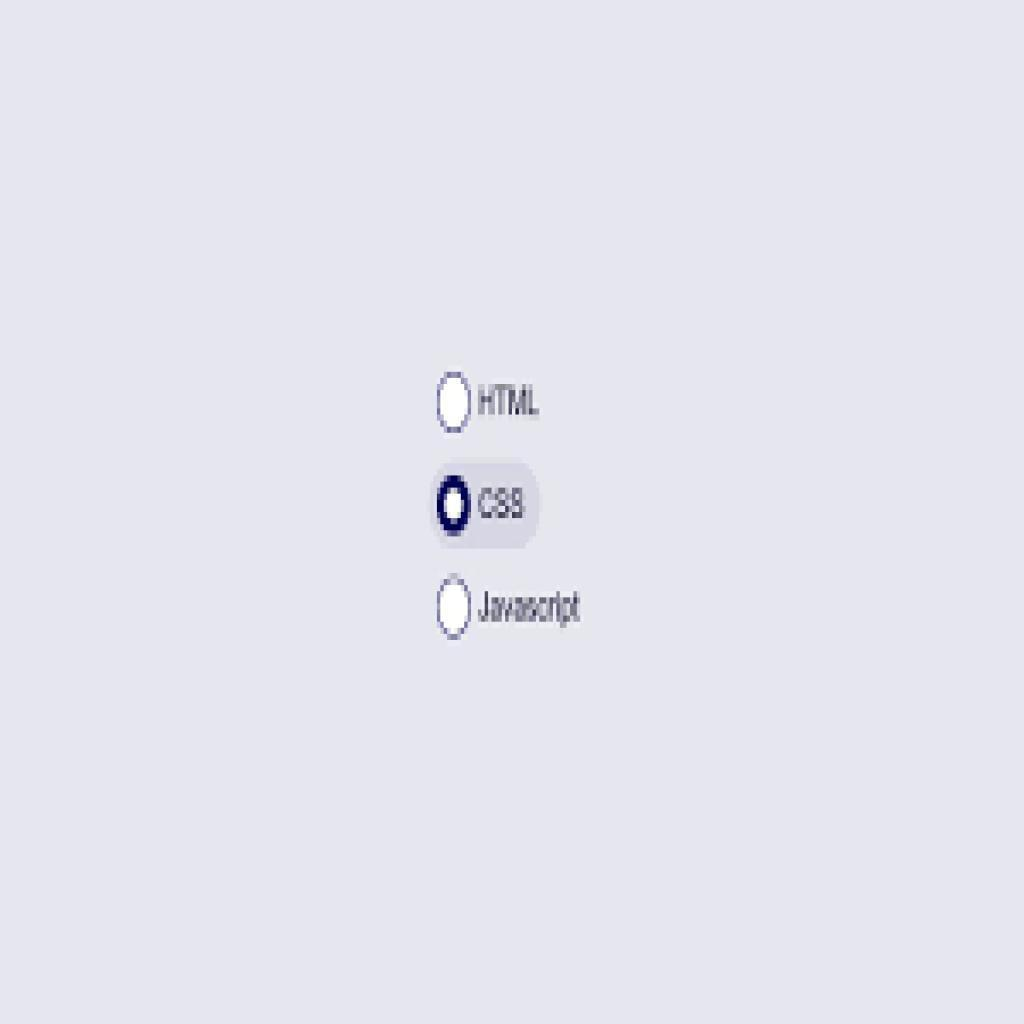radio: (436, 573, 474, 647), (435, 472, 475, 536), (436, 372, 473, 437)
